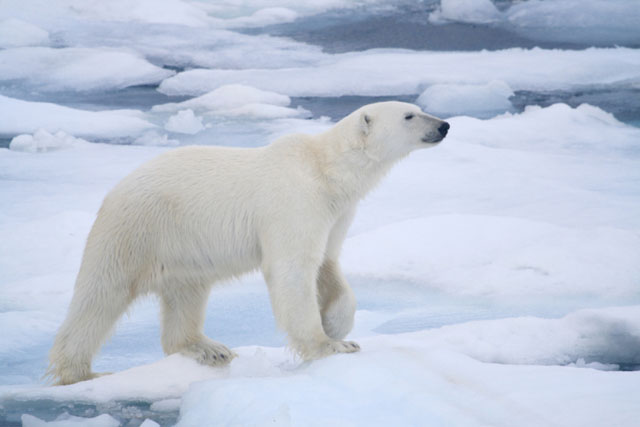Polar Bear: (51, 53, 464, 411)
